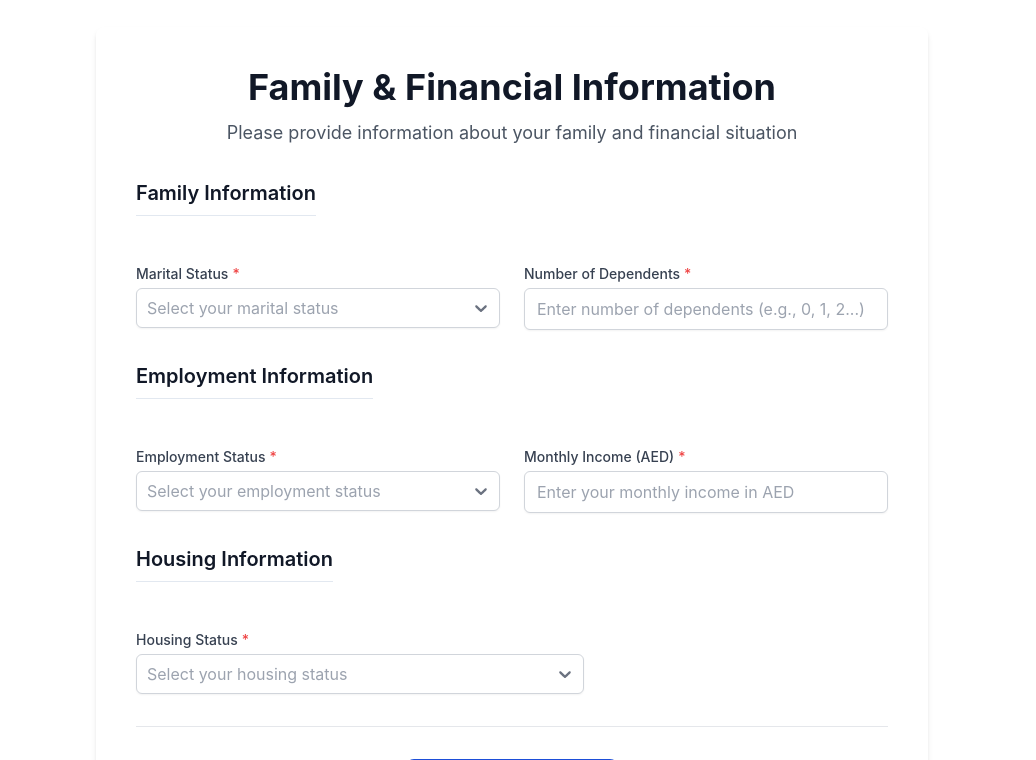
FamilyFinancialInfo Component › handles housing status selection
Click the dropdown labelled "Housing Status*" at [193, 640], box x1=136 y1=631 x2=249 y2=648
(page scrolled)
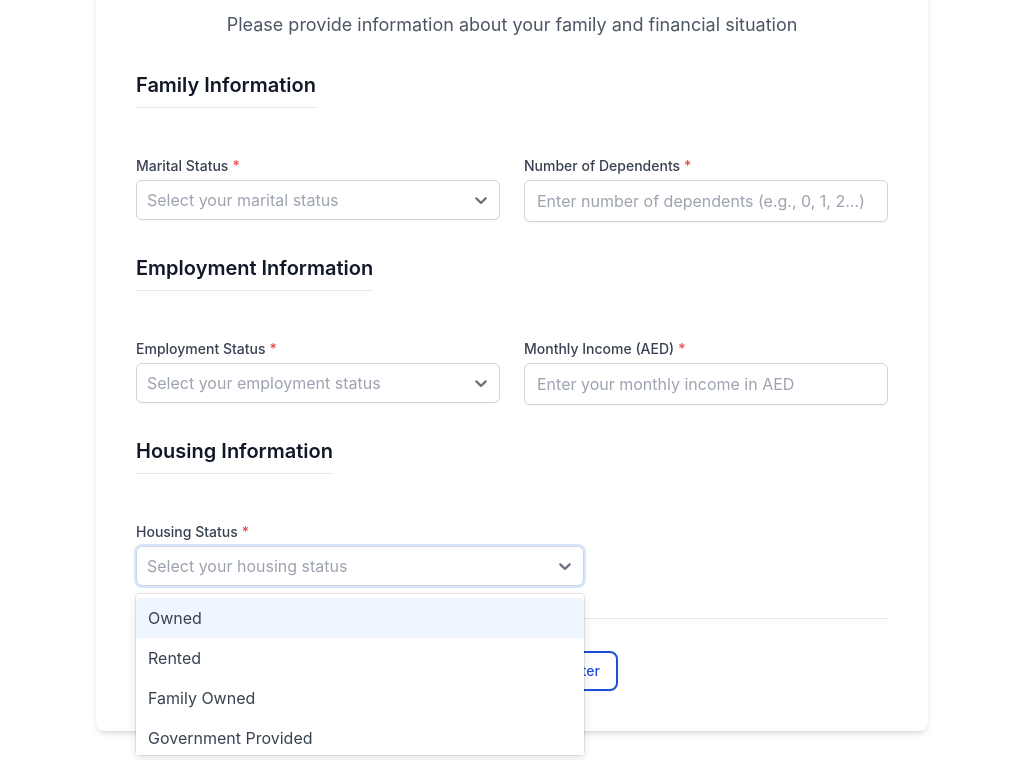
Result: the option "Owned" is shown at x1=136 y1=598 x2=584 y2=638
Result: the option "Rented" is shown
Result: the option "Family Owned" is shown at x1=136 y1=678 x2=584 y2=718
Click the option "Rented" at [175, 658], box x1=136 y1=638 x2=584 y2=678
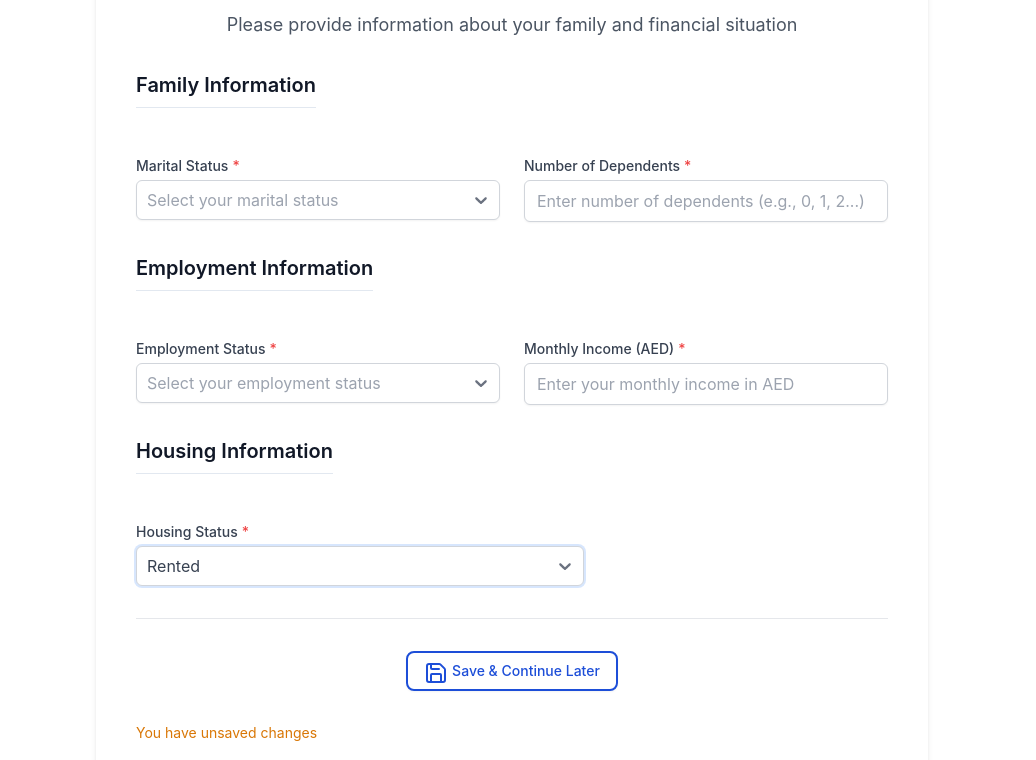
Result: the text "Rented" is shown at x1=147 y1=556 x2=200 y2=576
